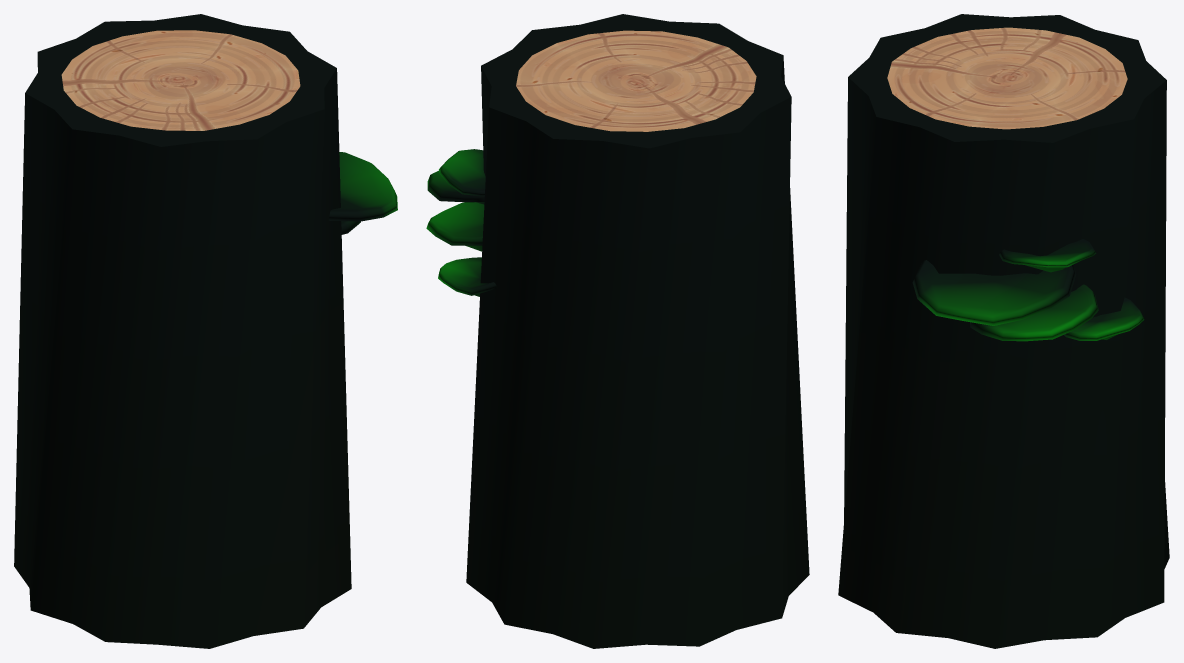
File: obj_harvests_trees_pine01_p01.fbx
3 views of the same model, side by side, from view 1: azimuth 30°, elevation 25°; view 2: azimuth 150°, elevation 25°; view 3: azimuth 270°, elevation 25° (orthographic).
Parts seen in each view (by area): view 1: obj_harvests_trees_pine01_p01; view 2: obj_harvests_trees_pine01_p01; view 3: obj_harvests_trees_pine01_p01.
Boxes of the visible parts, x1,y1,x2,y2 form: obj_harvests_trees_pine01_p01: (14,14,397,648); obj_harvests_trees_pine01_p01: (426,14,809,648); obj_harvests_trees_pine01_p01: (838,14,1169,648).
Size of the model in its own units: 5.91 by 8 by 4.82.
